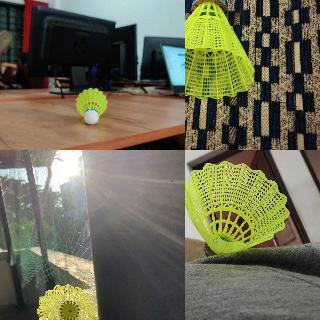shuttlecock: (185, 161, 290, 257), (185, 0, 255, 99), (37, 284, 98, 319), (75, 88, 107, 124)
